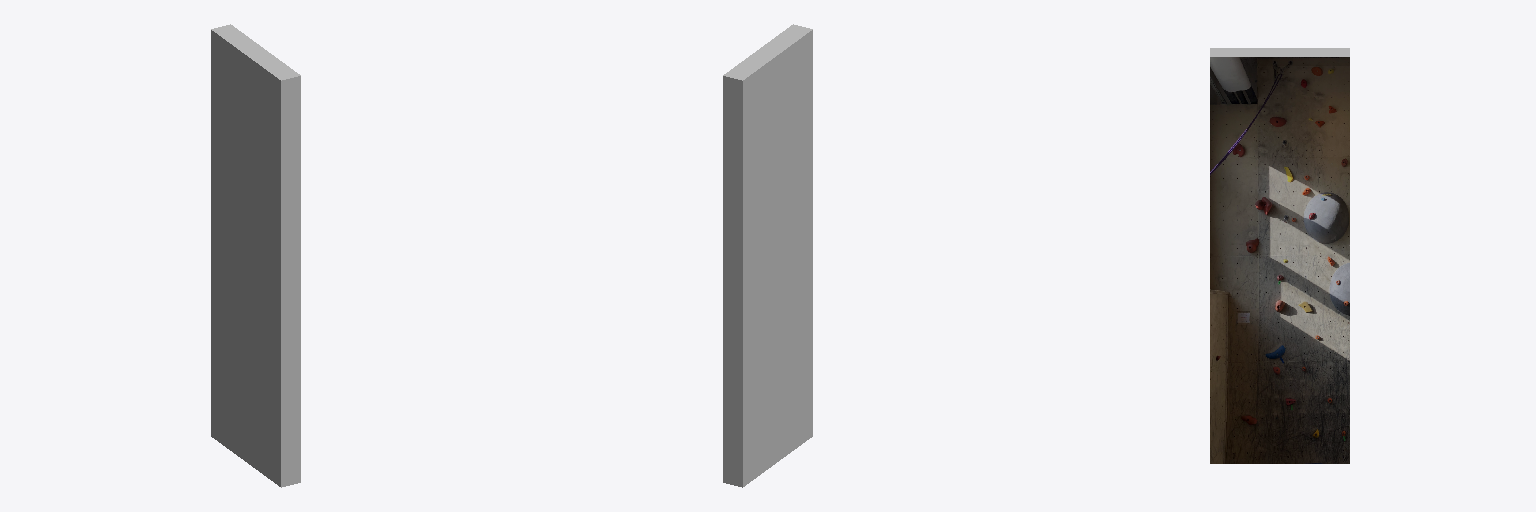
3 views of the same model, side by side, from view 1: azimuth 30°, elevation 25°; view 2: azimuth 150°, elevation 25°; view 3: azimuth 270°, elevation 25° (orthographic).
Parts seen in each view (by area): view 1: Cube; view 2: Cube; view 3: Cube.
Boxes of the visible parts, box(x1,y1,x2,y2) form: Cube: box(211, 24, 300, 487); Cube: box(723, 24, 812, 487); Cube: box(1210, 48, 1349, 463).
Bounding box in the file's own units: 0.25 × 4.8 × 1.5.
Materials: 2 (1 with a texture image).